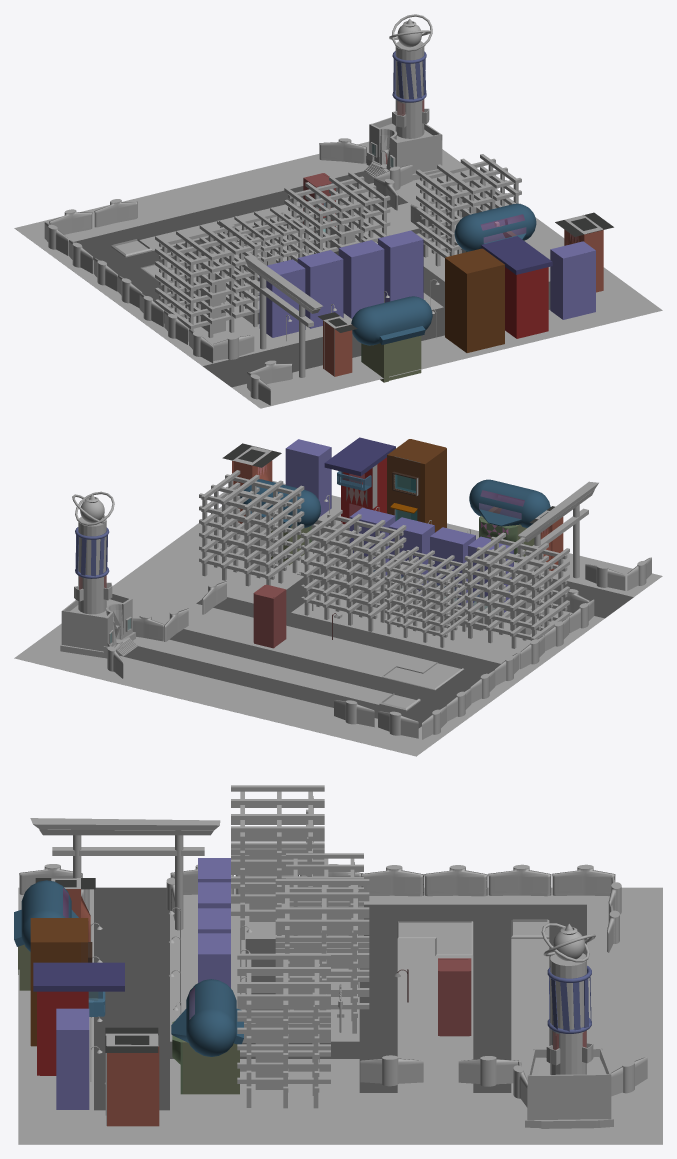
The model's file is bangunan biasa.fbx.
3 views of the same model, one above another, from view 1: azimuth 30°, elevation 25°; view 2: azimuth 150°, elevation 25°; view 3: azimuth 270°, elevation 25° (orthographic). The views are drawn at different scales.
Parts seen in each view (by area): view 1: pCube13, pPlane17 (×4), pasted__pCylinder1 (×5), pCube5 (×4), pCylinder1, bangunan_coba:pCylinder1, bangunan_coba:pasted__pCube1, bangunan_coba:pCube6, pCylinder2, bangunan_coba:pCube4, pCube9 (×2), aset_bangunan_1:pPlane17 (+11 smaller); view 2: pCube13, pasted__pCylinder1 (×14), pCube5 (×4), pCylinder1, aset_bangunan_1:pCube5, pCylinder2, bangunan_coba:pCube4, bangunan_coba:polySurface5, bangunan_coba:pCube2, pCube11, bangunan_coba:polySurface1, bangunan_coba:pCylinder1 (+11 smaller); view 3: pCube13, pasted__pCylinder1 (×8), pCube12, pCube5 (×4), pCube4, bangunan_coba:pCylinder1, aset_bangunan_1:pCube5, pCylinder2, bangunan_coba:pCube2, pCylinder1, bangunan_coba:pCube9, aset_bangunan_1:pCube65 (+25 smaller).
Boxes of the visible parts, x1,y1,x2,y2 form: pCube13: (14,141,662,408); pPlane17 (×4): (272,240,423,337); pasted__pCylinder1 (×5): (49,138,366,384); pCube5 (×4): (259,230,423,337); pCylinder1: (351,296,432,345); bangunan_coba:pCylinder1: (454,203,536,251); bangunan_coba:pasted__pCube1: (512,267,548,338); bangunan_coba:pCube6: (468,265,500,351); pCylinder2: (392,41,429,138); bangunan_coba:pCube4: (445,257,471,352); pCube9 (×2): (362,134,441,382); aset_bangunan_1:pPlane17: (563,250,595,319); pCube13: (14,481,662,756); pasted__pCylinder1 (×14): (132,557,651,739); pCube5 (×4): (349,507,513,612); pCylinder1: (469,479,550,527); aset_bangunan_1:pCube5: (285,439,331,517); pCylinder2: (74,517,112,614); bangunan_coba:pCube4: (420,448,446,532); bangunan_coba:polySurface5: (387,455,420,521); bangunan_coba:pCube2: (324,437,395,476); pCube11: (62,610,105,651); bangunan_coba:polySurface1: (337,464,377,524); bangunan_coba:pCylinder1: (240,479,320,527); pCube13: (18,887,662,1144); pasted__pCylinder1 (×8): (19,864,647,1096); pCube12: (527,1057,611,1120); pCube5 (×4): (198,858,230,987); pCube4: (107,1044,159,1126); bangunan_coba:pCylinder1: (171,979,243,1056); aset_bangunan_1:pCube5: (56,1008,89,1109); pCylinder2: (546,953,593,1074); bangunan_coba:pCube2: (33,962,124,991); pCylinder1: (14,880,78,951); bangunan_coba:pCube9: (182,1040,239,1094); aset_bangunan_1:pCube65: (30,818,220,830).
Bounding box in the file's own units: 84.81 × 30.66 × 90.59.
